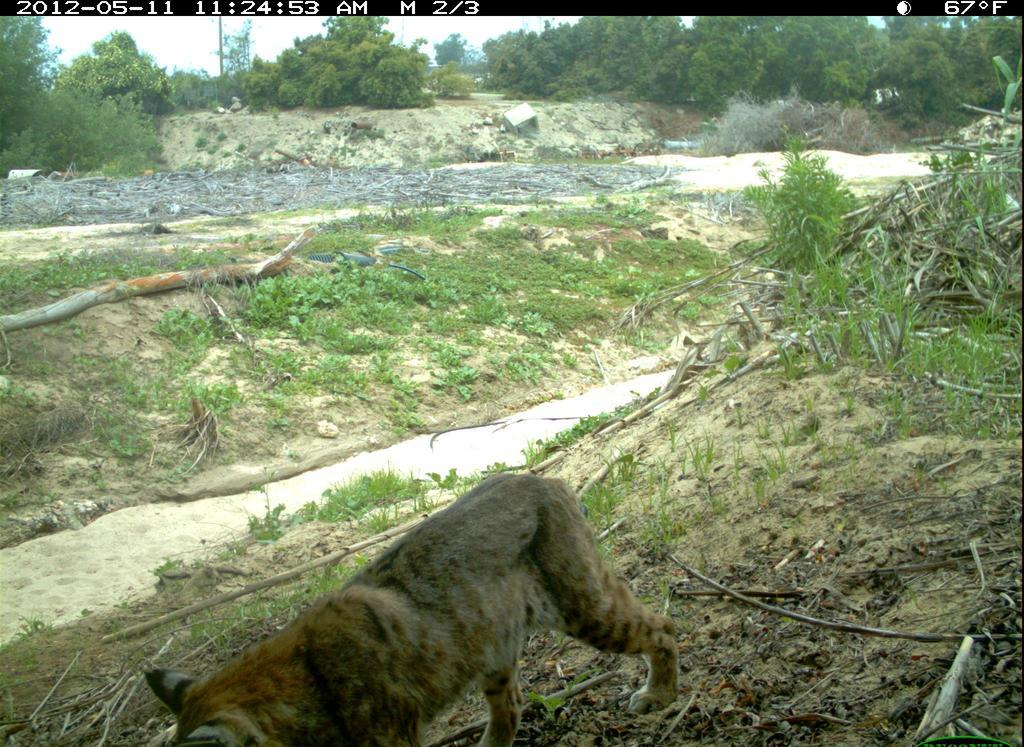bobcat: (138, 463, 697, 747)
